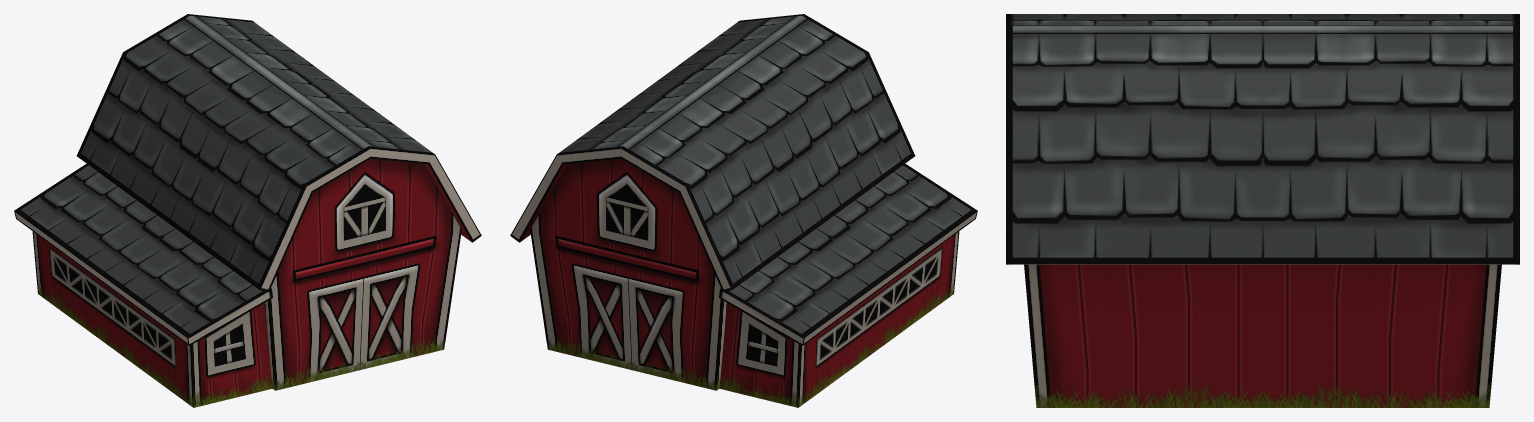
File: house_08.FBX
The picture shows the model from 3 angles, left to right: view 1: azimuth 30°, elevation 25°; view 2: azimuth 150°, elevation 25°; view 3: azimuth 270°, elevation 25°; orthographic projection. The views are drawn at different scales.
Visible parts, largest first — view 1: house_08; view 2: house_08; view 3: house_08.
Part boxes in pixels (box(x1,y1,x2,y2)): house_08: box(14, 14, 481, 407); house_08: box(510, 14, 977, 407); house_08: box(1006, 14, 1519, 407).
Bounding box in the file's own units: 1268 × 964 × 1389.
